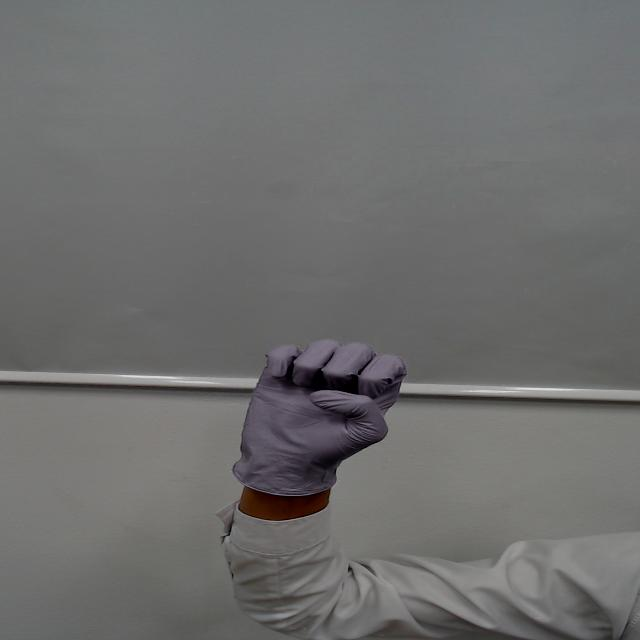glove: (212, 325, 422, 459)
